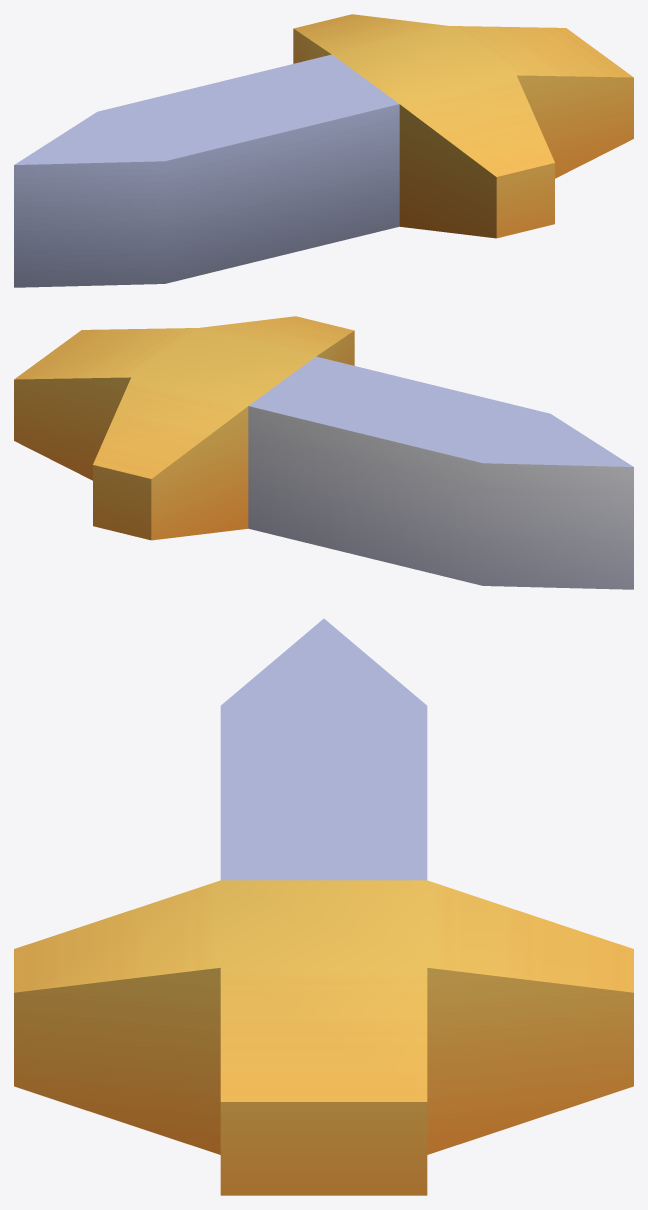
The model's file is weapon-sword.fbx.
3 views of the same model, one above another, from view 1: azimuth 30°, elevation 25°; view 2: azimuth 150°, elevation 25°; view 3: azimuth 270°, elevation 25° (orthographic). The views are drawn at different scales.
Parts seen in each view (by area): view 1: weapon-sword; view 2: weapon-sword; view 3: weapon-sword.
Boxes of the visible parts, box(x1,y1,x2,y2) form: weapon-sword: box(14, 14, 633, 287); weapon-sword: box(14, 316, 633, 589); weapon-sword: box(14, 618, 633, 1195).
Size of the model in its own units: 50 by 10 by 30.
